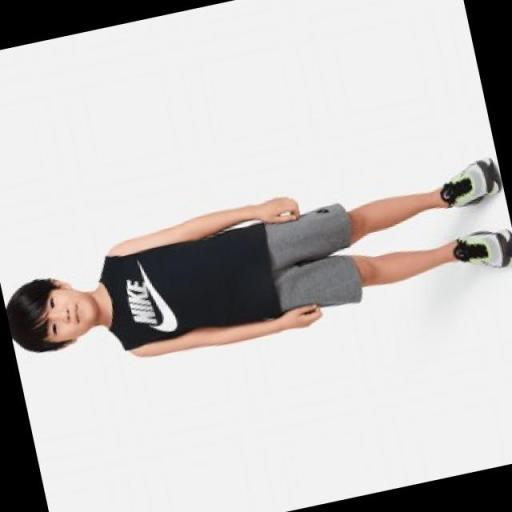Nike: (142, 268, 180, 334), (125, 277, 158, 328)
